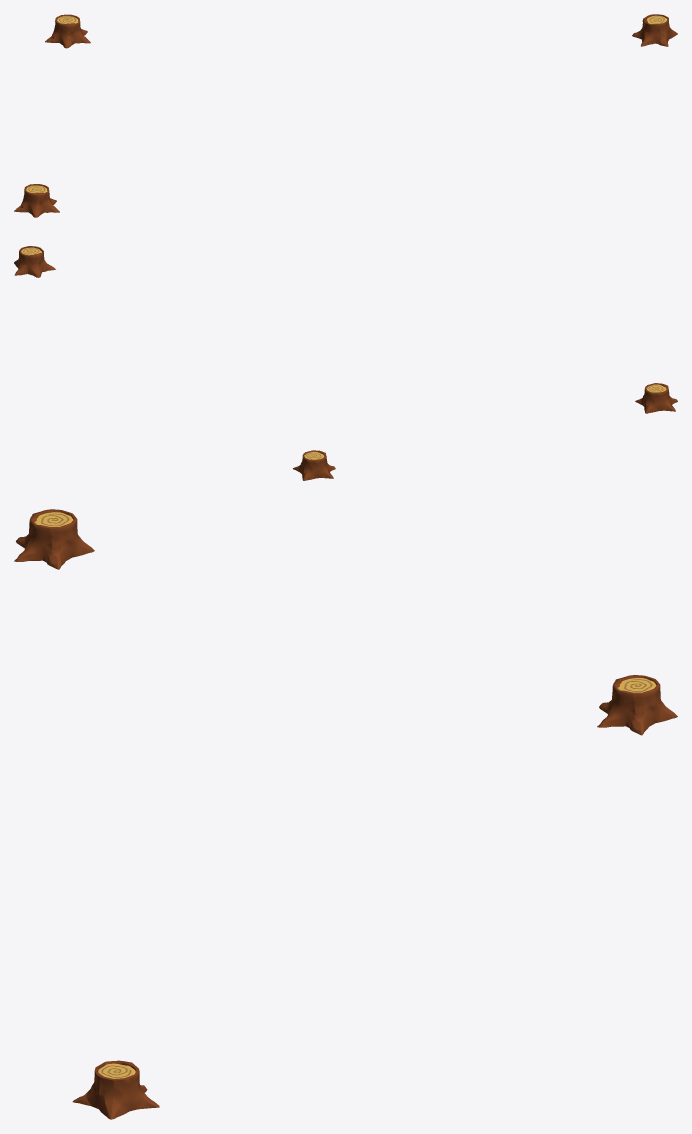
The model's file is stumps.glb.
3 renders of one model, top to bottom at view 1: azimuth 30°, elevation 25°; view 2: azimuth 150°, elevation 25°; view 3: azimuth 270°, elevation 25°, orthographic. The views are drawn at different scales.
Parts seen in each view (by area): view 1: stump.003, stump.002, stump.001; view 2: stump.003, stump.002, stump.001; view 3: stump.001, stump.002, stump.003.
Boxes of the visible parts, x1,y1,x2,y2 form: stump.003: [632, 14, 677, 46]; stump.002: [14, 184, 59, 217]; stump.001: [45, 14, 90, 48]; stump.003: [14, 246, 55, 277]; stump.002: [635, 383, 677, 413]; stump.001: [293, 450, 335, 480]; stump.001: [597, 675, 677, 735]; stump.002: [14, 509, 94, 569]; stump.003: [72, 1060, 159, 1119].
Bounding box in the file's own units: 27.07 × 0.7851 × 12.89.
2 materials, 1 textured.
